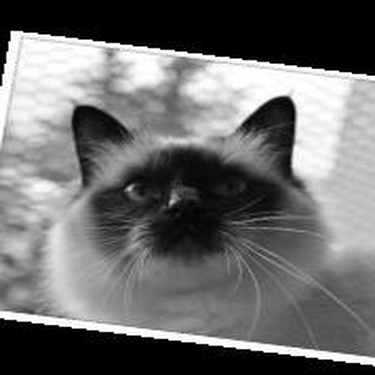cat: (44, 96, 369, 354)
